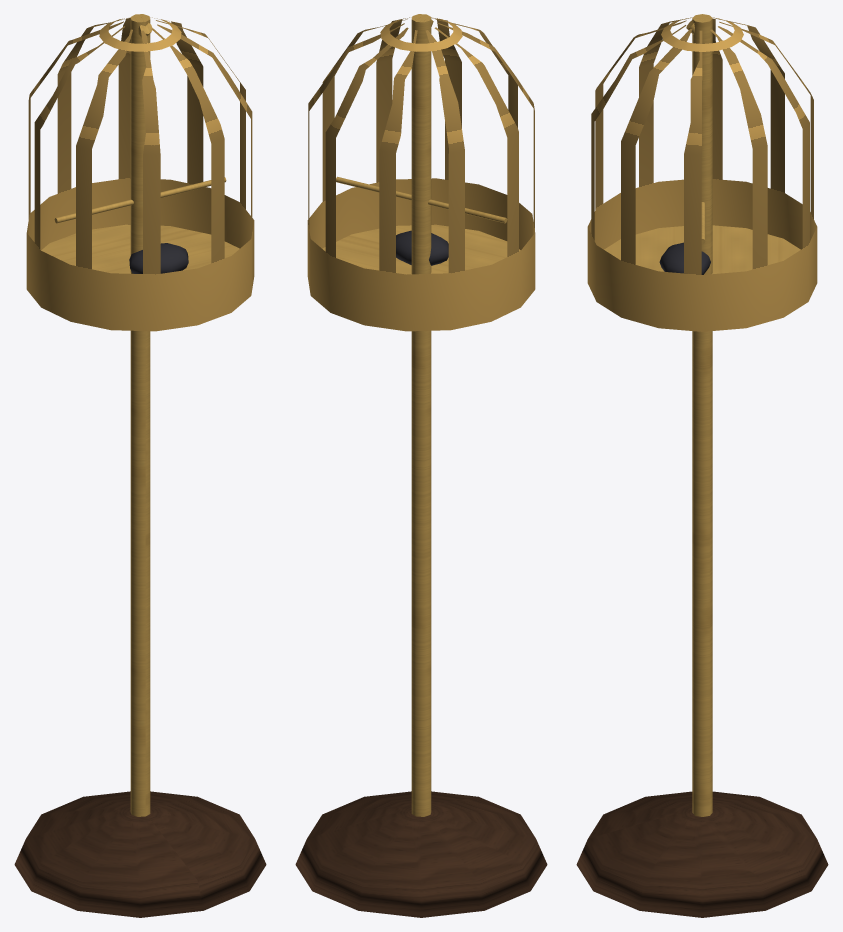
File: birdcage.glb
The picture shows the model from 3 angles, left to right: view 1: azimuth 30°, elevation 25°; view 2: azimuth 150°, elevation 25°; view 3: azimuth 270°, elevation 25°; orthographic projection.
Parts seen in each view (by area): view 1: birdcage; view 2: birdcage; view 3: birdcage.
Boxes of the visible parts, x1,y1,x2,y2 form: birdcage: [14, 14, 266, 917]; birdcage: [295, 14, 547, 917]; birdcage: [576, 14, 828, 917].
Bounding box in the file's own units: 0.4401 × 1.63 × 0.4401.
4 materials, 3 textured.
